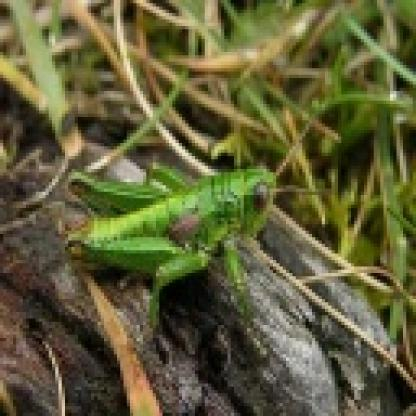grasshopper: (60, 157, 302, 322)
